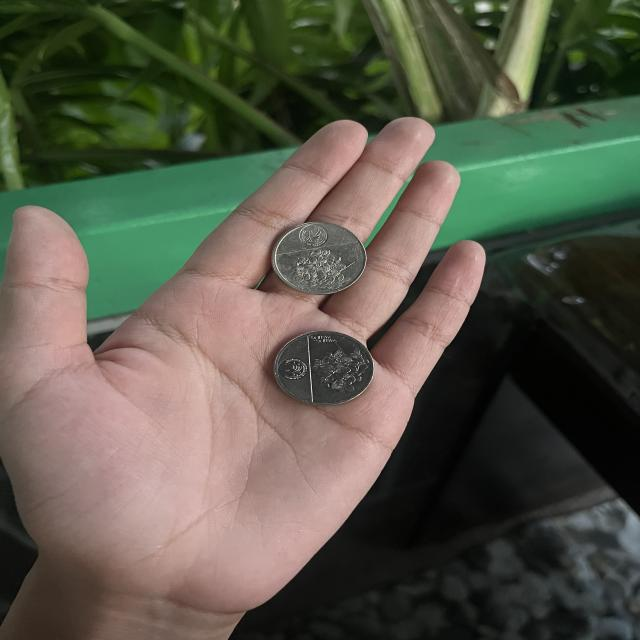1_New_Back: (290, 247, 356, 293), (314, 342, 372, 393)
